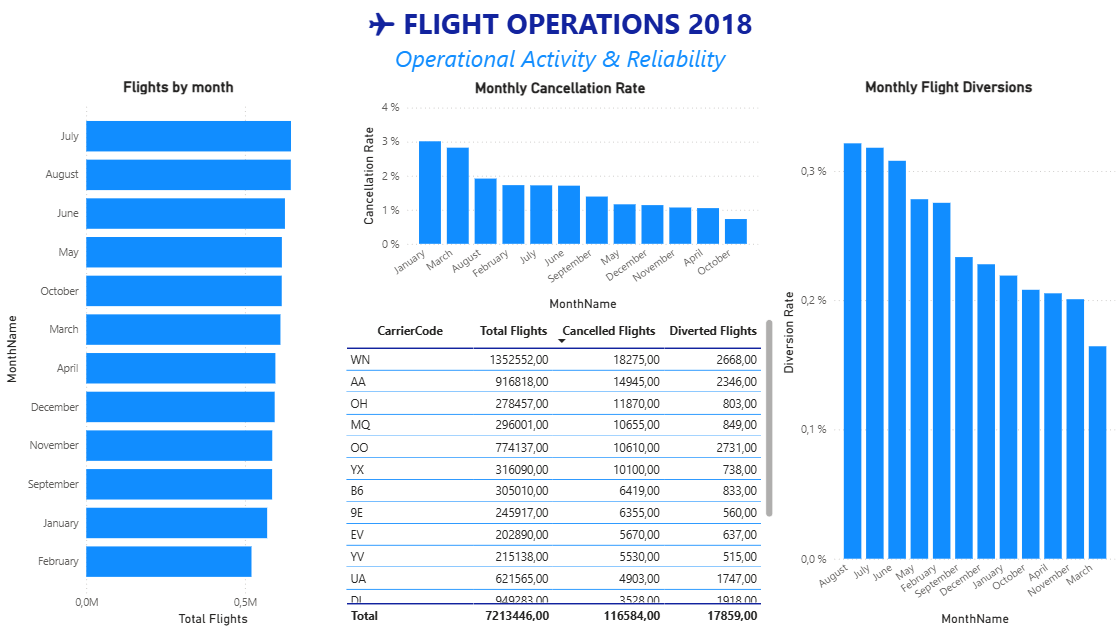

The page's visual inventory and layout, read from the dashboard file:
{"tool":"powerbi","page":{"name":"Flight op","canvas":[1280,720],"ordinal":1},"visuals":[{"type":"textbox","box":[0,0,1280,88.3],"z":0},{"type":"clusteredBarChart","title":"Flights by month","fields":{"Category":["DimDate.MonthName"],"Y":["measure.Total Flights"]},"box":[0,88.1,407.9,631.9],"z":1000},{"type":"clusteredColumnChart","title":"Monthly Cancellation Rate","fields":{"Category":["DimDate.MonthName"],"Y":["measure.Cancellation Rate"]},"box":[407.9,89.4,463.3,270.7],"z":2000},{"type":"columnChart","title":"Monthly Flight Diversions","fields":{"Category":["DimDate.MonthName"],"Y":["measure.Diversion Rate"]},"box":[888.8,88.1,391.5,631.9],"z":3000},{"type":"tableEx","fields":{"Values":["DimCarrier.CarrierCode","measure.Total Flights","measure.Cancelled Flights","measure.Diverted Flights"]},"box":[390.2,360,498.5,360],"z":4000}]}

Visuals, with their boxes in screenshot pixels (x1, y1, x2, y2), scaled from the page's 1280x720 canvas onto the 1120x630 screenshot:
textbox: bbox(0, 0, 1119, 77)
"Flights by month" clusteredBarChart: bbox(0, 77, 357, 629)
"Monthly Cancellation Rate" clusteredColumnChart: bbox(357, 78, 762, 315)
"Monthly Flight Diversions" columnChart: bbox(778, 77, 1119, 629)
tableEx - DimCarrier.CarrierCode x measure.Total Flights: bbox(341, 315, 778, 629)
